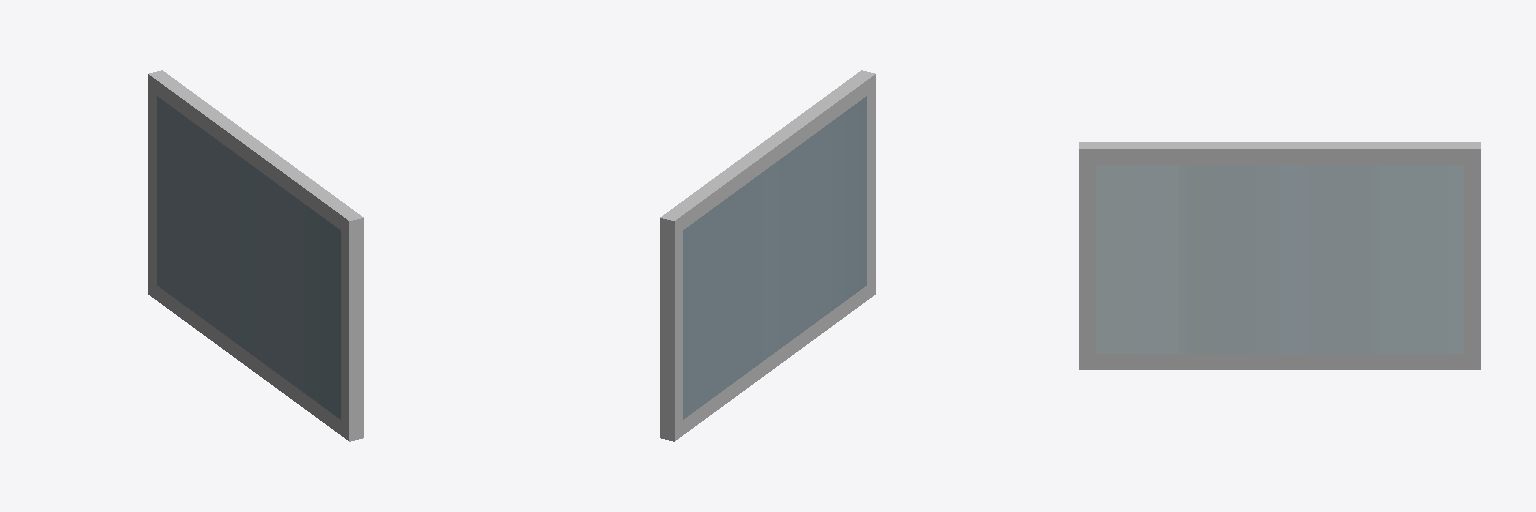
3 views of the same model, side by side, from view 1: azimuth 30°, elevation 25°; view 2: azimuth 150°, elevation 25°; view 3: azimuth 270°, elevation 25° (orthographic).
Parts seen in each view (by area): view 1: VentanaArriba; view 2: VentanaArriba; view 3: VentanaArriba.
Part boxes in pixels (left/top/right/bottom): VentanaArriba: left=148, top=70, right=363, bottom=441; VentanaArriba: left=660, top=70, right=875, bottom=441; VentanaArriba: left=1079, top=142, right=1480, bottom=369.
Size of the model in its own units: 0.1207 by 1.75 by 2.91.
2 materials, 1 textured.